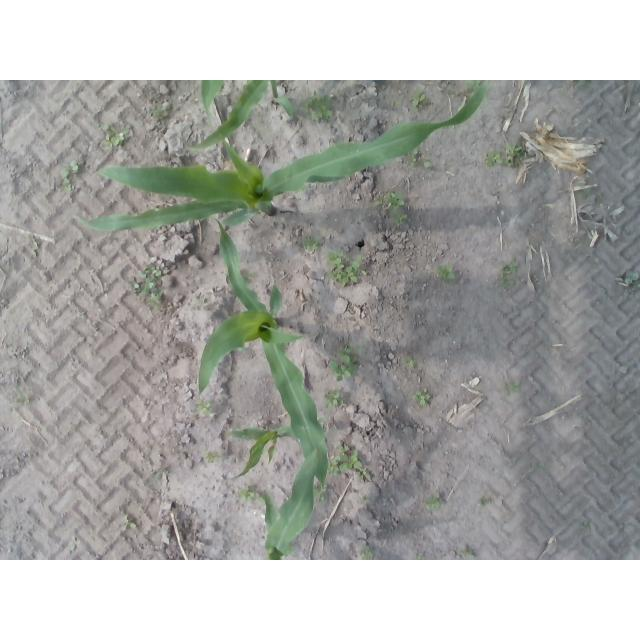Maize: (74, 87, 486, 233), (199, 220, 329, 489), (240, 449, 319, 560), (184, 81, 295, 152), (226, 426, 295, 481)
Weeds: (130, 263, 162, 298), (332, 253, 360, 284), (309, 96, 332, 121), (341, 450, 364, 472), (332, 362, 358, 381), (103, 124, 125, 144), (501, 263, 520, 286), (505, 144, 524, 164), (236, 486, 254, 503), (486, 150, 503, 166), (413, 392, 432, 405), (324, 389, 340, 404), (121, 515, 136, 530), (388, 194, 405, 207), (414, 89, 426, 107), (438, 265, 454, 277), (626, 272, 640, 285), (196, 401, 212, 412), (338, 349, 351, 362), (308, 237, 320, 251), (153, 109, 168, 120), (510, 380, 522, 393), (428, 495, 441, 507), (14, 393, 26, 405), (372, 194, 384, 206), (362, 545, 372, 559), (405, 355, 416, 367), (397, 214, 407, 226), (204, 451, 216, 461), (69, 538, 79, 550), (330, 460, 339, 473), (71, 161, 81, 172), (414, 149, 421, 163), (62, 173, 70, 184), (465, 551, 476, 559), (414, 552, 424, 559), (359, 498, 369, 504), (425, 161, 432, 169)
